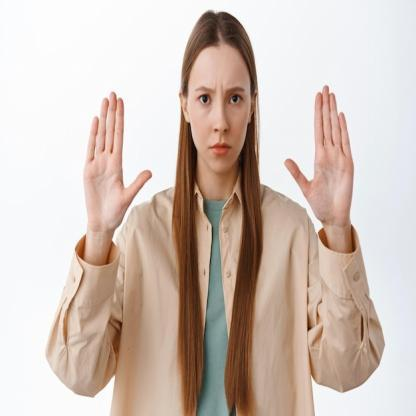stop: (281, 82, 366, 236), (82, 88, 154, 240)
